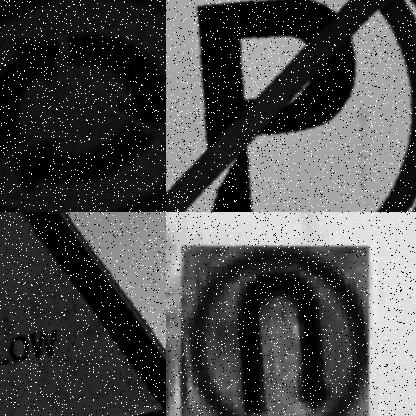No Parking: (166, 0, 416, 212)
Roundabout Ahead: (0, 0, 166, 212)
U-Turn: (182, 246, 369, 416), (183, 264, 356, 416)
